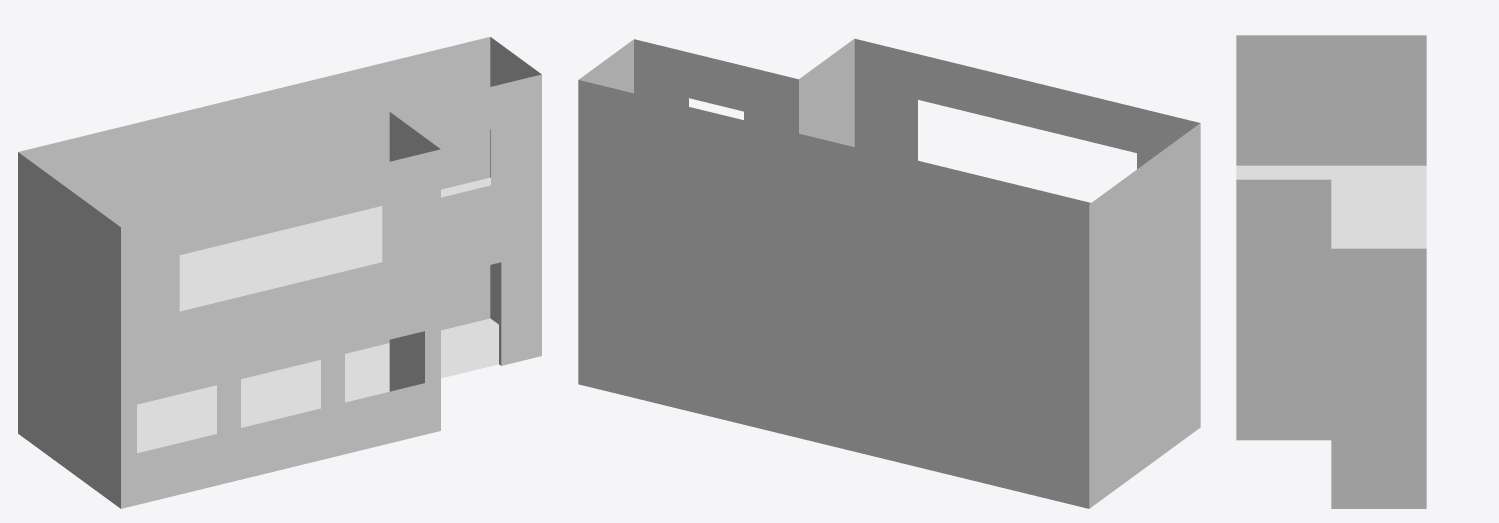
The model's file is Bld_C_low_L3_A.fbx.
The picture shows the model from 3 angles, left to right: view 1: azimuth 30°, elevation 25°; view 2: azimuth 150°, elevation 25°; view 3: azimuth 270°, elevation 25°; orthographic projection. The views are drawn at different scales.
Visible parts, largest first — view 1: Bld_C_low_L3_A_LOD0; view 2: Bld_C_low_L3_A_LOD0; view 3: Bld_C_low_L3_A_LOD0.
Boxes of the visible parts, x1=… form: Bld_C_low_L3_A_LOD0: x1=18, y1=37, x2=541, y2=508; Bld_C_low_L3_A_LOD0: x1=578, y1=38, x2=1200, y2=508; Bld_C_low_L3_A_LOD0: x1=1236, y1=35, x2=1426, y2=508.
Size of what is drawn, in the model's own units: 1300 by 864 by 640.
Materials: 1 (1 with a texture image).
